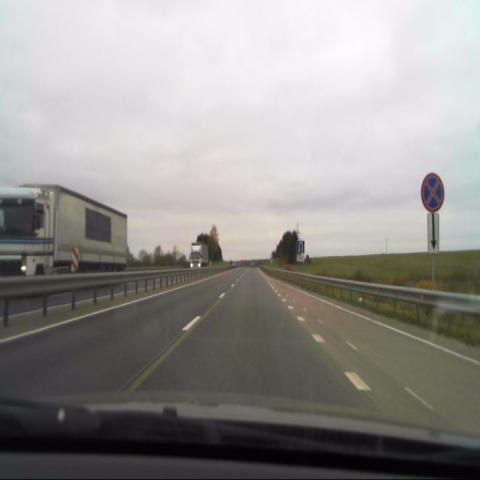8_2_3: (428, 213, 440, 254)
